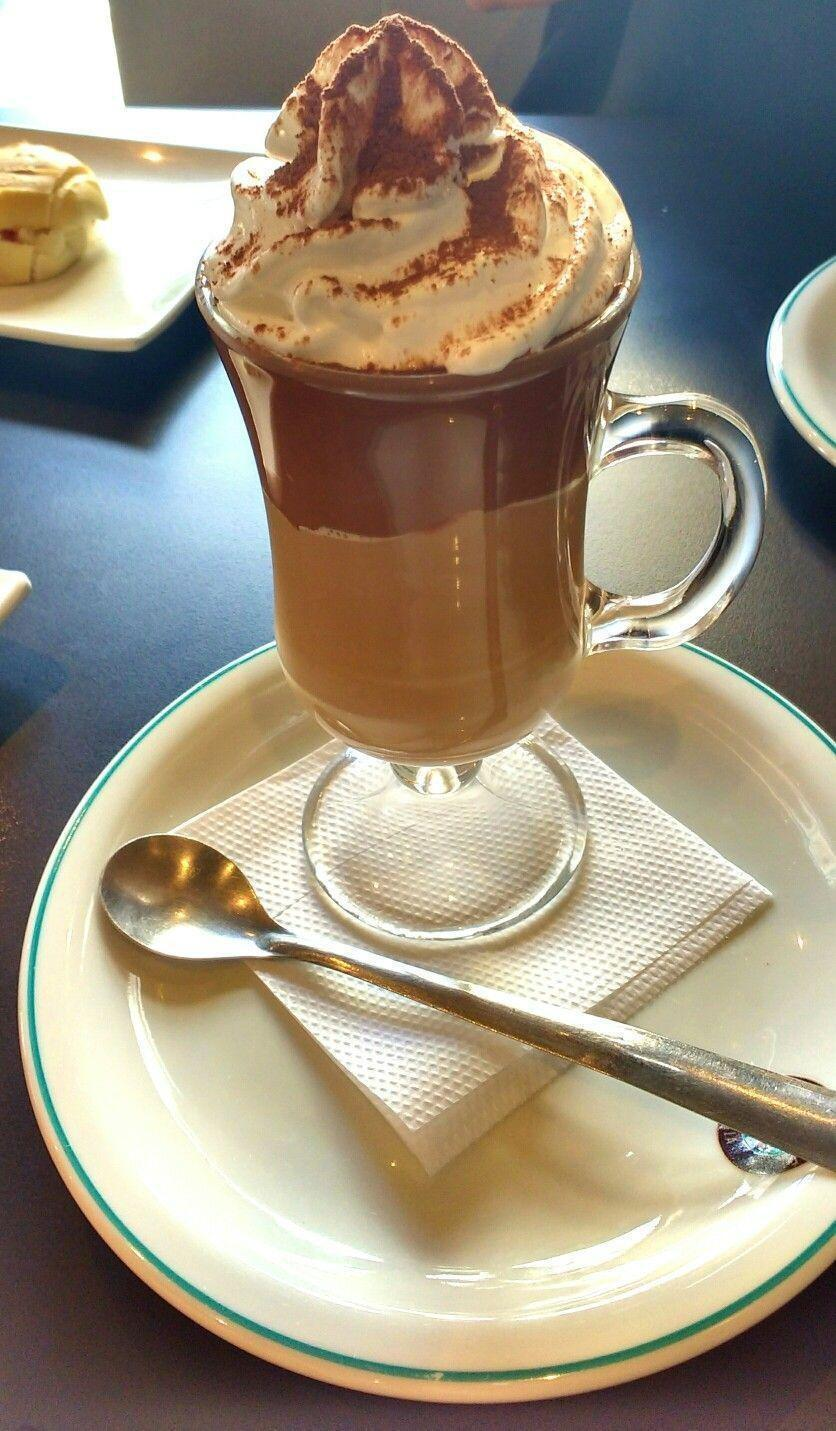glass-mug: (190, 105, 763, 956)
